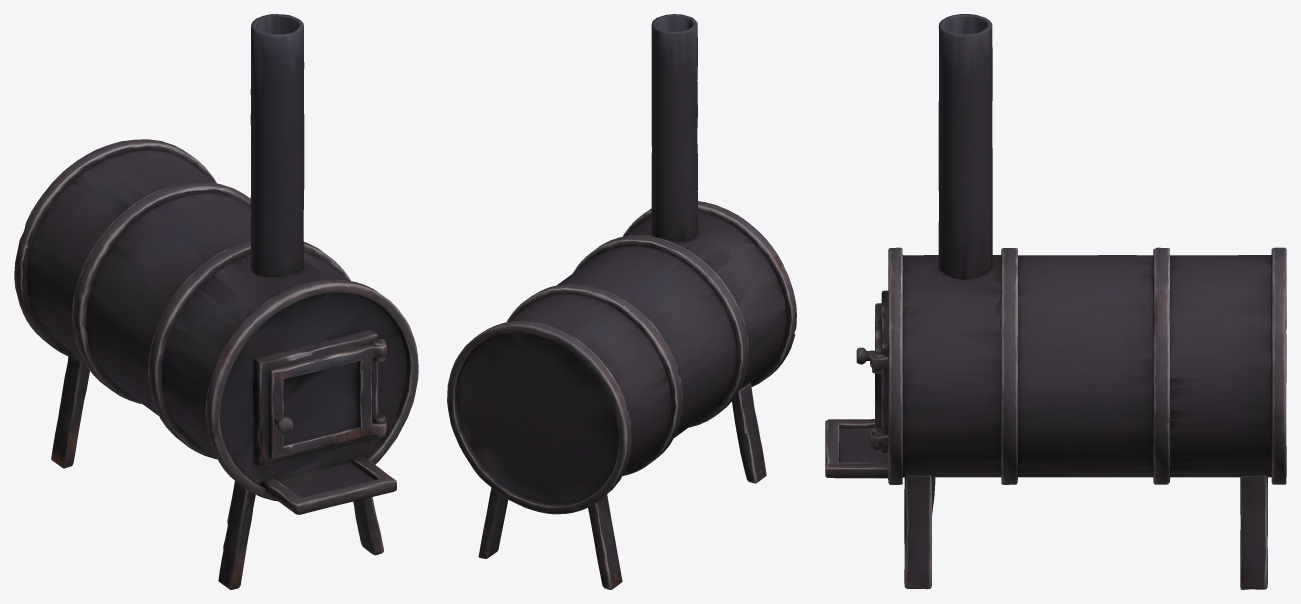
Rendered from stove_heat_stalnaya_bochka.glb.
The picture shows the model from 3 angles, left to right: view 1: azimuth 30°, elevation 25°; view 2: azimuth 150°, elevation 25°; view 3: azimuth 270°, elevation 25°; orthographic projection. The views are drawn at different scales.
Parts seen in each view (by area): view 1: body, door; view 2: body; view 3: body, door.
Part boxes in pixels (box(x1,y1,x2,y2)): body: box(14, 14, 418, 589); door: box(266, 330, 386, 458); body: box(447, 14, 796, 589); body: box(825, 14, 1286, 589); door: box(856, 296, 888, 446).
Bounding box in the file's own units: 0.3726 × 0.8998 × 0.7126.
Materials: 5 (3 with a texture image).
